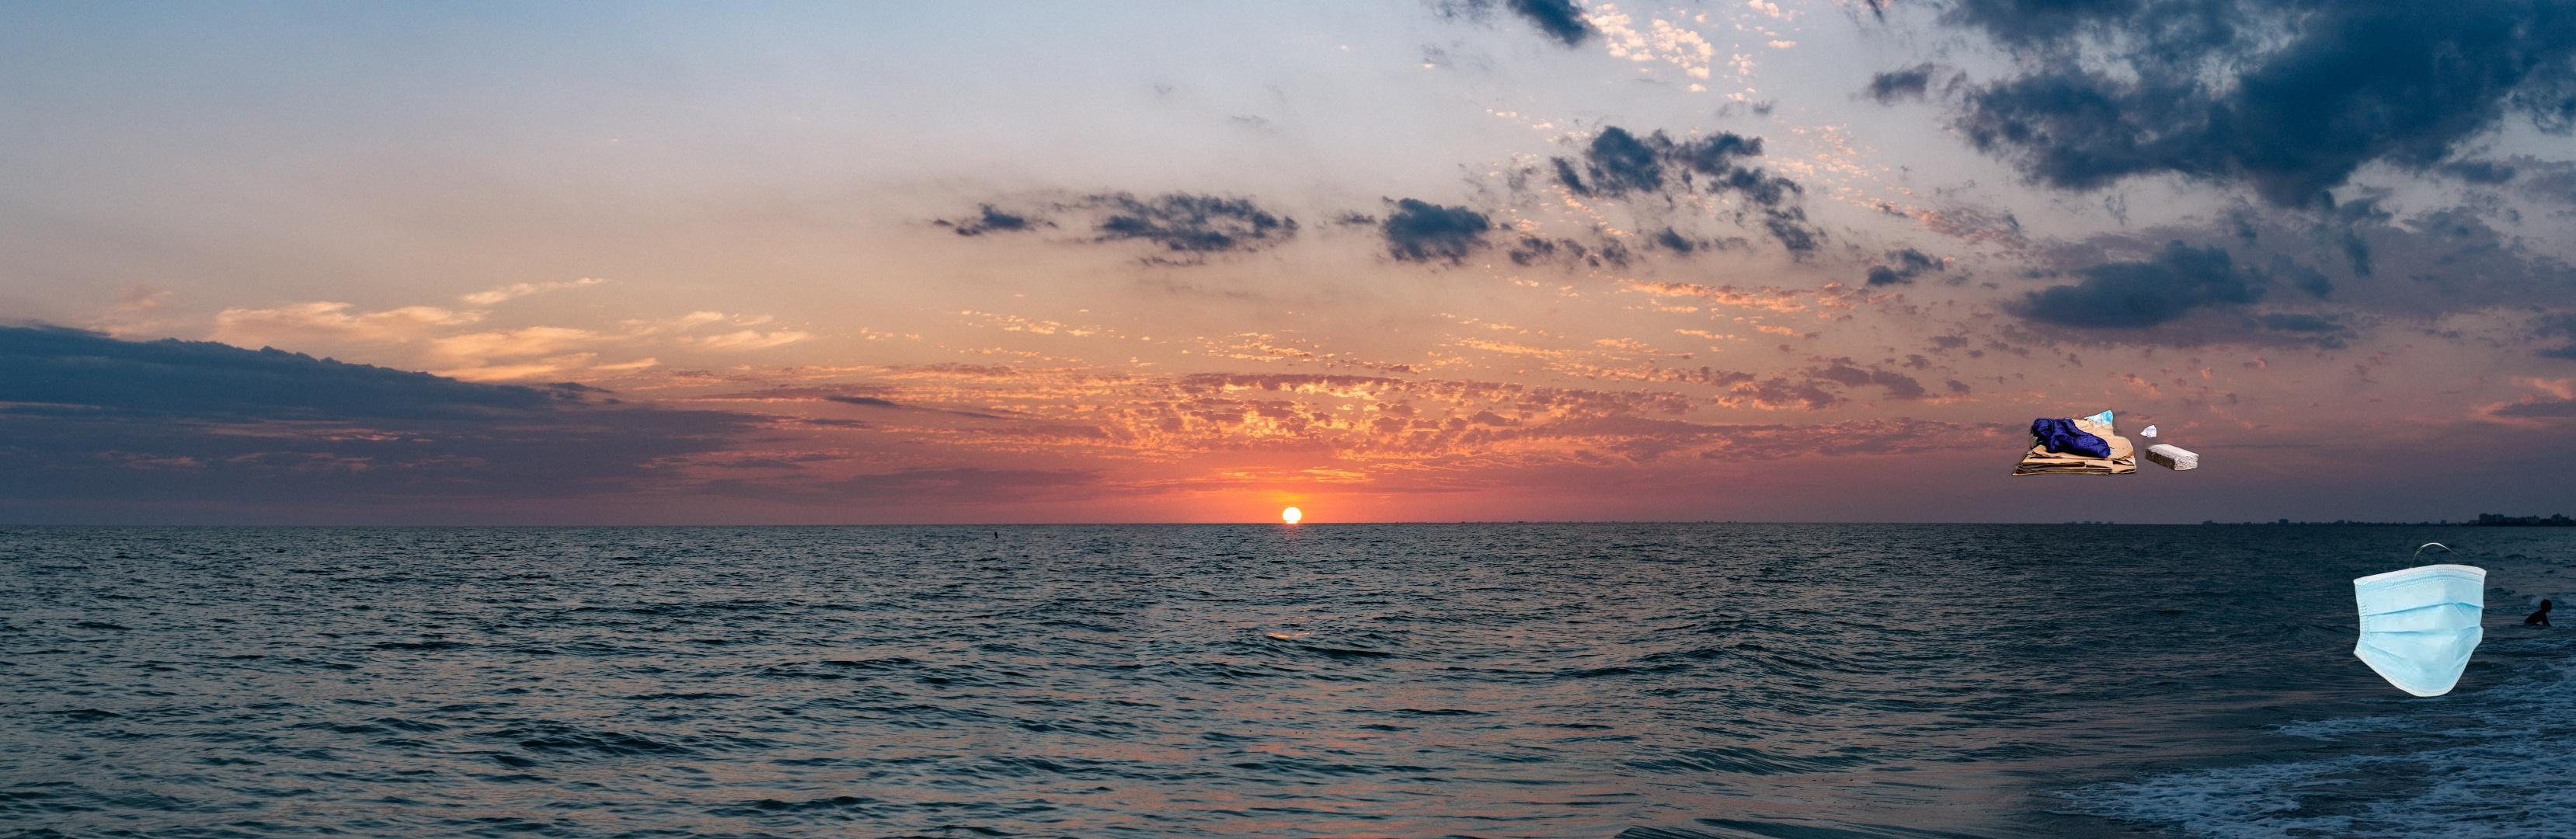trash: (2351, 540, 2491, 698)
trashbox-cardboard: (2003, 291, 2221, 486)
